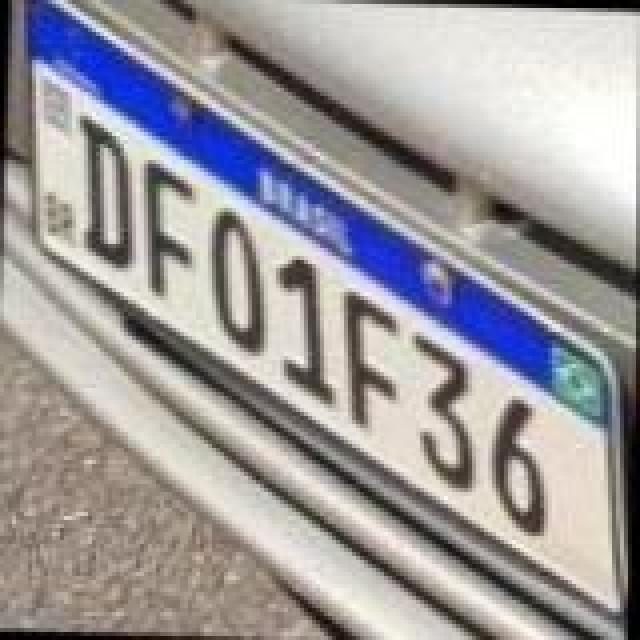1: (268, 250, 344, 406)
3: (406, 328, 482, 492)
6: (486, 396, 554, 540)
D: (68, 108, 140, 268)
F: (336, 282, 404, 422), (136, 158, 200, 302)
O: (204, 202, 272, 354)
